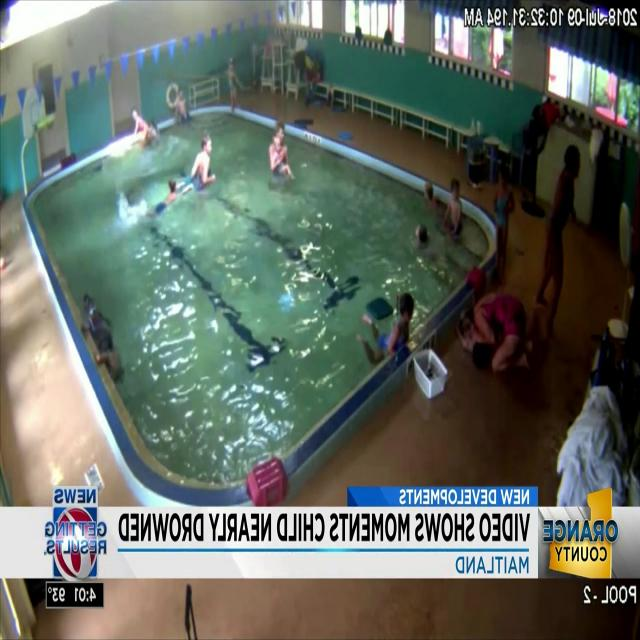adult: (535, 143, 581, 329), (457, 295, 530, 376), (269, 119, 293, 182), (194, 130, 213, 198), (270, 137, 292, 180)
child: (353, 289, 419, 371), (488, 164, 515, 286), (449, 323, 496, 369), (144, 173, 190, 220), (221, 59, 244, 110), (448, 178, 462, 237), (130, 105, 148, 142)
